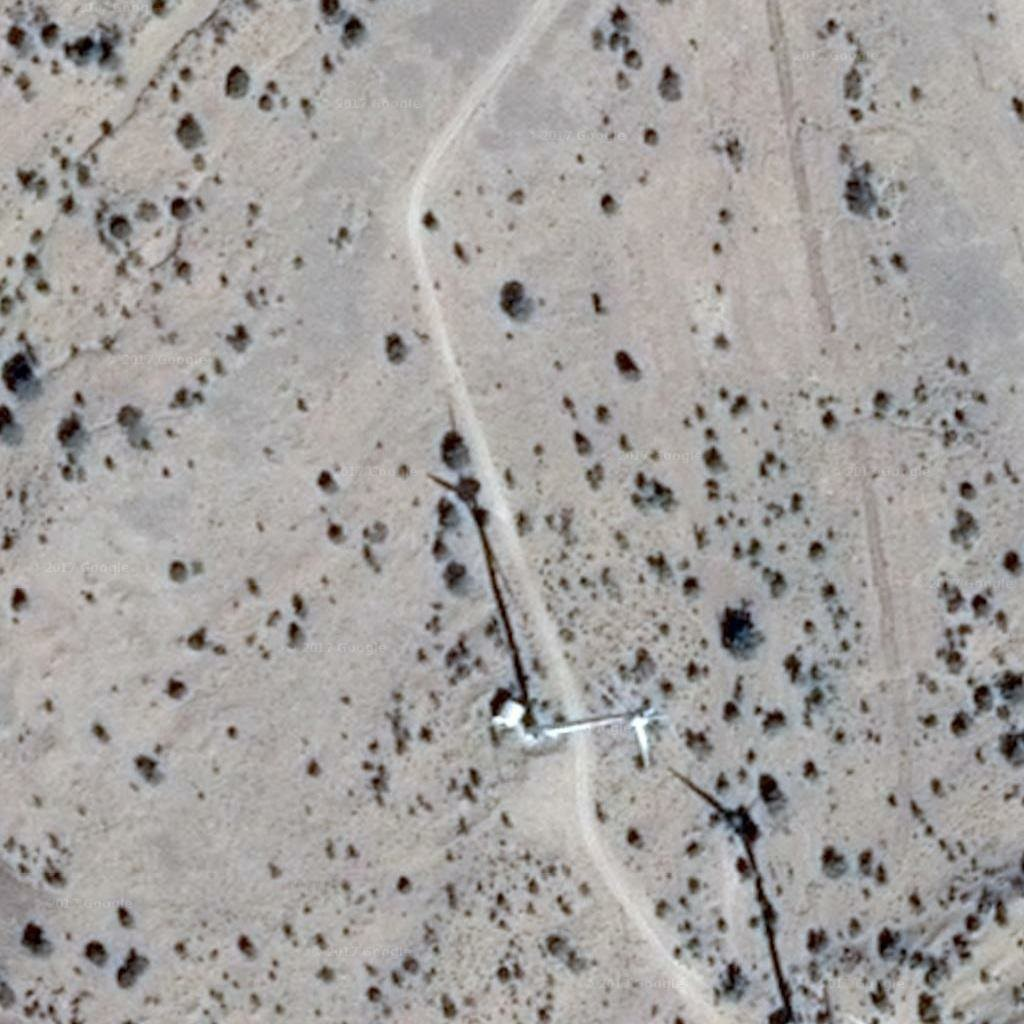Windmill: (417, 411, 548, 721)
